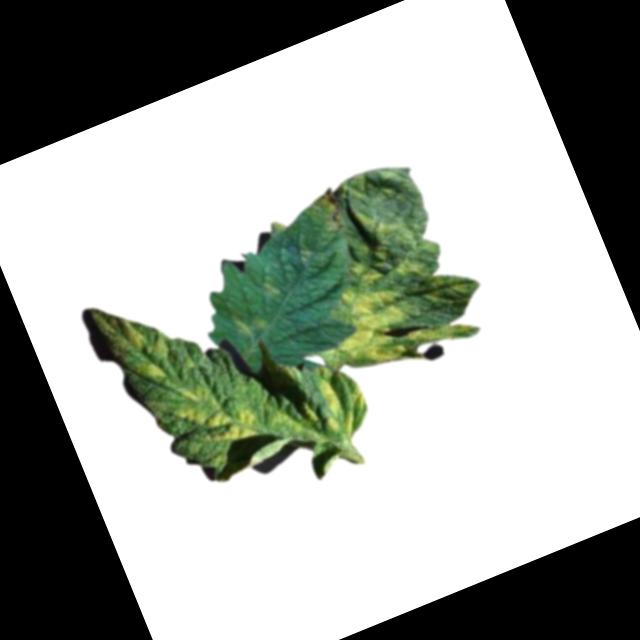Leaf_Mold: (295, 252, 423, 386), (172, 384, 262, 463), (310, 363, 376, 441), (120, 311, 178, 387), (228, 303, 268, 343)
